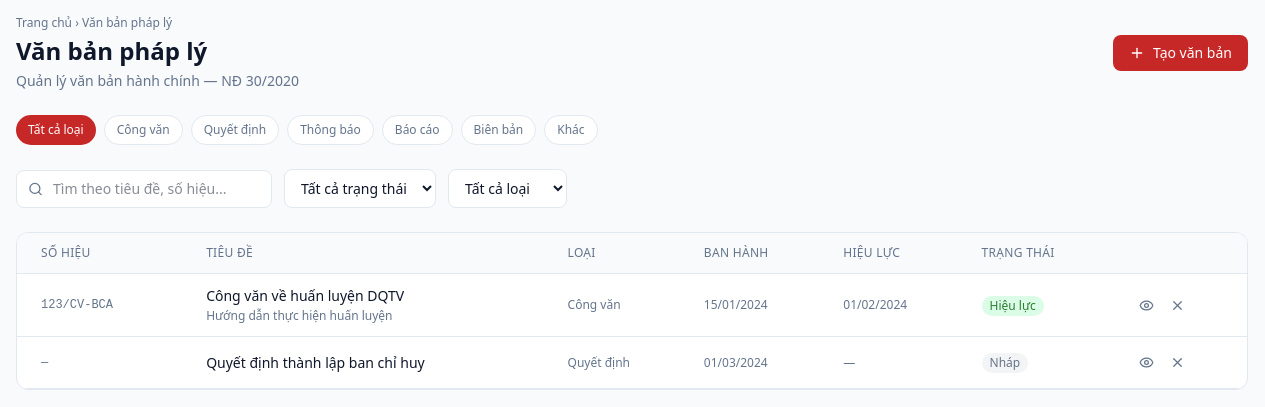
Test: OfficialDocumentsPage › shows revoke confirmation on revoke button
The image size is (1265, 407).
Click the button with test id "revoke-btn-doc-1" at (1178, 305), box [1164,292,1191,318]
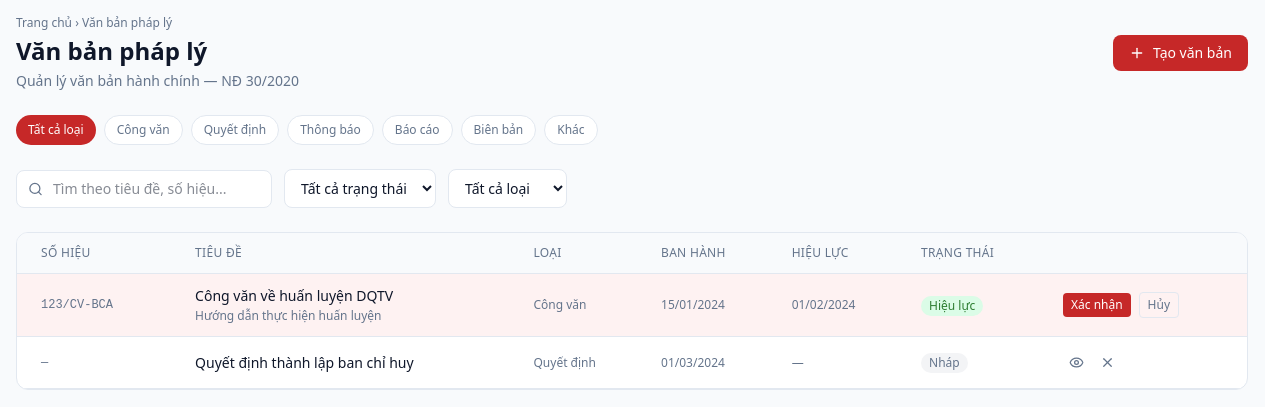
Expected: the button with test id "confirm-revoke-doc-1" is shown, [1063,293,1131,317]
